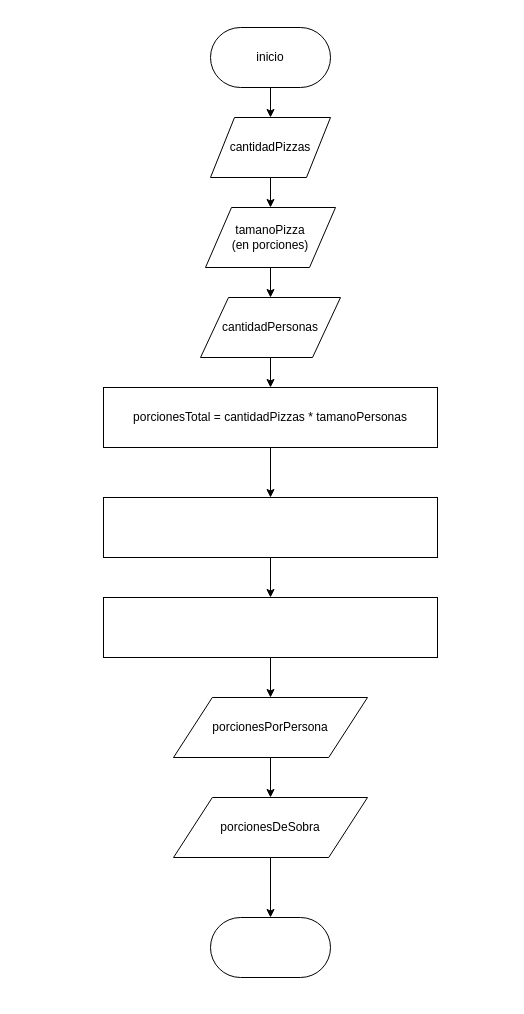
The diagram is 524 pixels wide and 1014 high, and some of its shapes have lost their labels. The shapes that lost their labels are listed below. From the top down, each one's centre as x and y in pixels, then its label:
point (270, 527): porcionesPorPersona= porcionesTotal // cantidadPersonas
point (270, 627): porcionesDeSobra= porcionesTotal % cantidadPersonas
point (270, 947): fin
